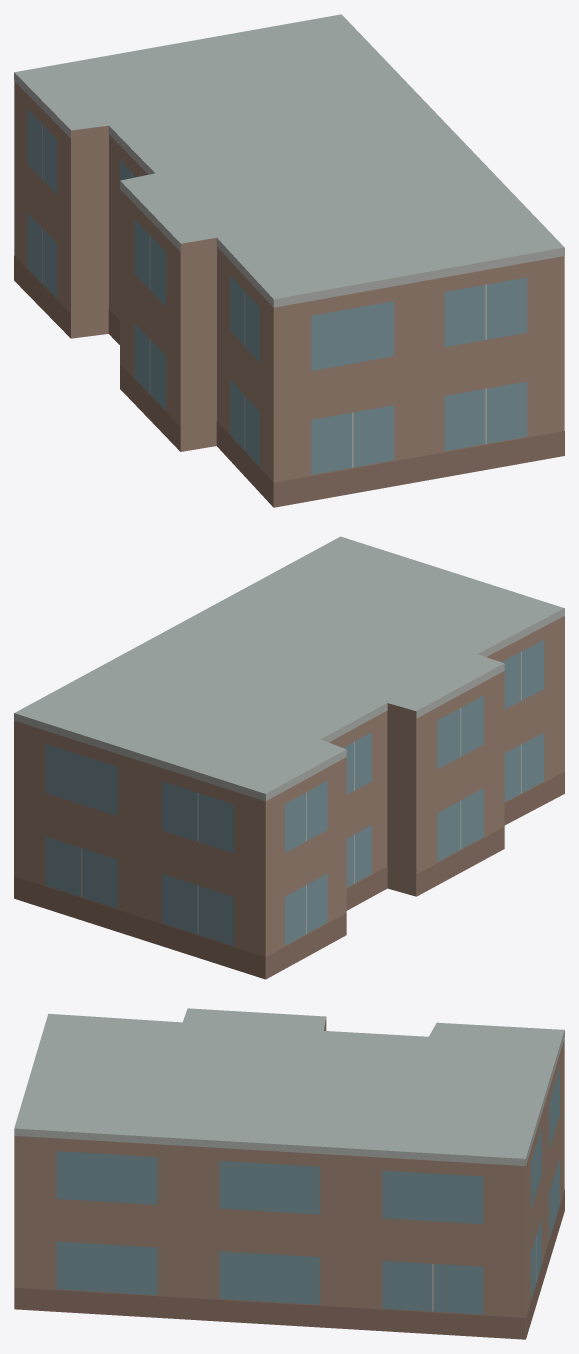
File: survey-upis-32502946.glb
3 views of the same model, one above another, from view 1: azimuth 30°, elevation 25°; view 2: azimuth 150°, elevation 25°; view 3: azimuth 270°, elevation 25° (orthographic). The views are drawn at different scales.
Parts seen in each view (by area): view 1: survey-upis-32502946.tmp; view 2: survey-upis-32502946.tmp; view 3: survey-upis-32502946.tmp.
Boxes of the visible parts, left/top/right/bottom form: survey-upis-32502946.tmp: left=14, top=14, right=564, bottom=507; survey-upis-32502946.tmp: left=14, top=536, right=564, bottom=979; survey-upis-32502946.tmp: left=14, top=1008, right=564, bottom=1339.
Bounding box in the file's own units: 10.92 × 6.1 × 16.86.
